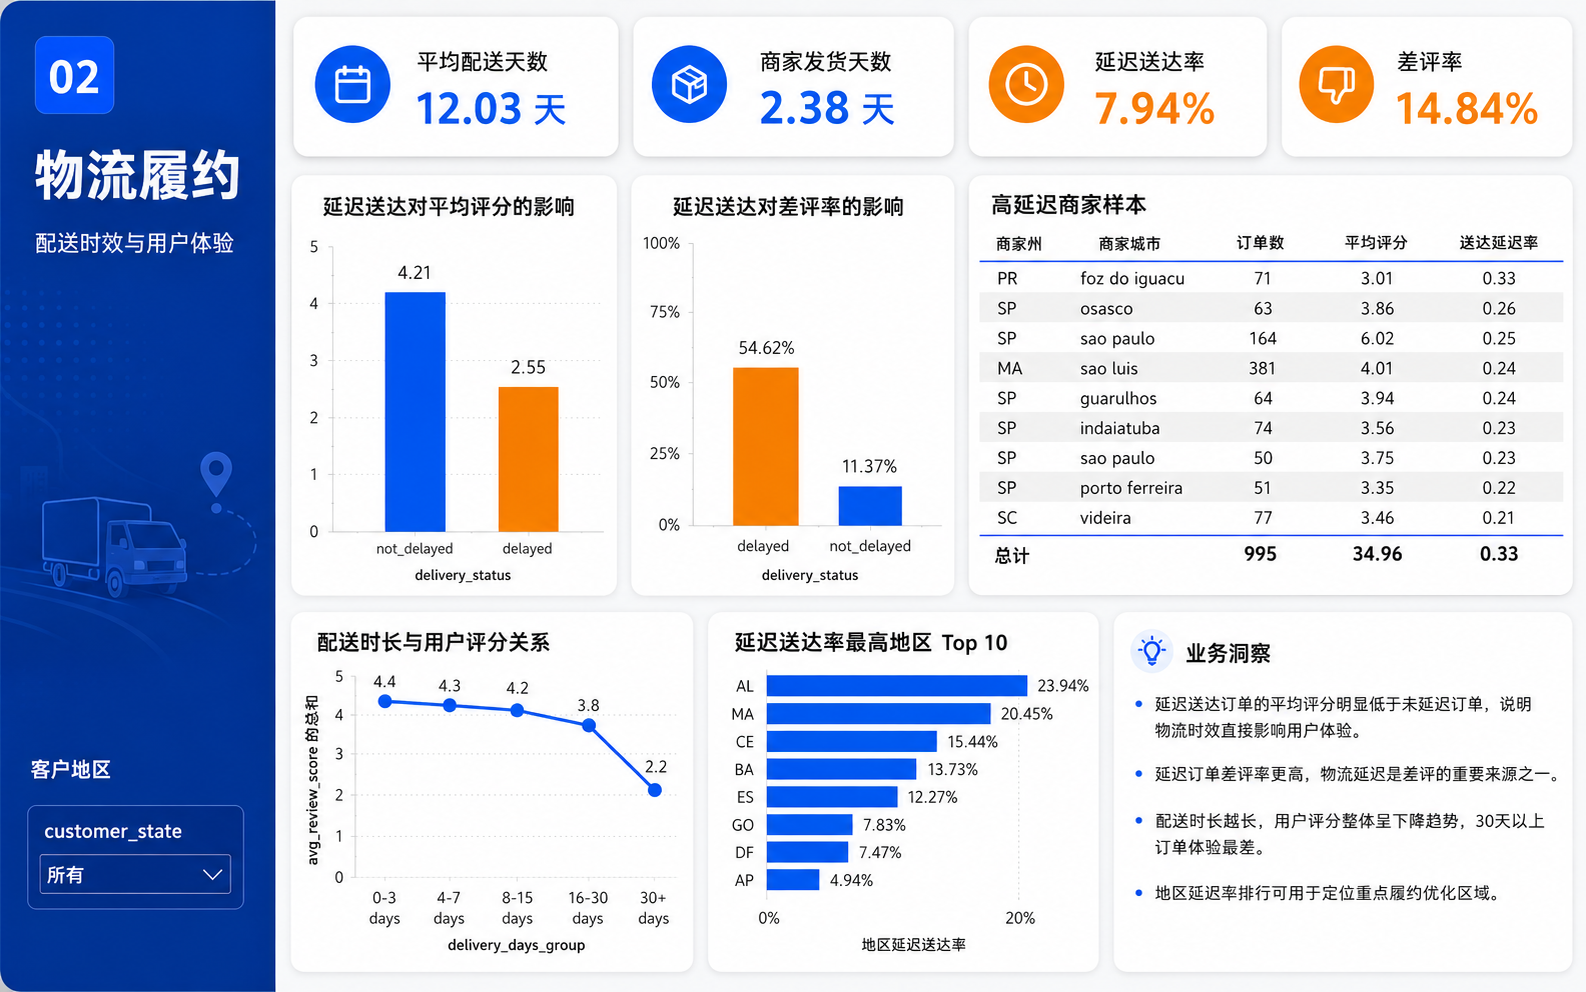

This screenshot's page, from the dashboard's own definition file:
{"tool":"powerbi","page":{"name":"物流履约","canvas":[1280,720],"ordinal":1},"visuals":[{"type":"shape","box":[0,0,210.3,720.2],"z":0},{"type":"textbox","box":[18,18,58,58.9],"z":1000},{"type":"textbox","box":[18.3,91.7,167.5,80.7],"z":2000},{"type":"textbox","box":[19.6,160.2,181,34.2],"z":3000},{"type":"slicer","fields":{"Values":["olist_ecommerce ads_logistics_by_customer_state.customer_state"]},"box":[18,600,165,70],"z":4000},{"type":"textbox","box":[18.3,560.1,160.2,30.6],"z":5000},{"type":"cardVisual","title":"平均配送天数","fields":{"Data":["ads_logistics_overview.平均配送天数显示"]},"box":[238.8,12.3,191,120.2],"z":6000},{"type":"cardVisual","title":"延迟送达率","fields":{"Data":["ads_logistics_overview.延迟送达率显示"]},"box":[716.4,12.3,191,120.2],"z":7000},{"type":"cardVisual","title":"商家发货天数","fields":{"Data":["ads_logistics_overview.商家发货天数显示"]},"box":[482.2,12.3,191,120.2],"z":8000},{"type":"clusteredColumnChart","title":"延迟送达对平均评分的影响","fields":{"Category":["ads_delay_review_impact.delivery_status"],"Y":["Sum(ads_delay_review_impact.avg_review_score)"]},"box":[238.8,132.5,297.4,261.9],"z":9000},{"type":"clusteredColumnChart","title":"延迟送达对平均评分的影响","fields":{"Category":["ads_delay_review_impact.delivery_status"],"Y":["ads_delay_review_impact.差评率"]},"box":[482.2,132.5,240.3,261.9],"z":10000},{"type":"lineChart","title":"配送时长与用户评分关系","fields":{"Category":["ads_delivery_days_review_analysis.delivery_days_group"],"Y":["Sum(ads_delivery_days_review_analysis.avg_review_score)"]},"box":[238.8,457.6,339,261.9],"z":11000},{"type":"clusteredBarChart","title":"延迟送达率最高地区 Top 10","fields":{"Category":["ads_logistics_by_customer_state.customer_state"],"Y":["ads_logistics_by_customer_state.地区延迟送达率"]},"box":[590.4,464.2,352,251],"z":12000},{"type":"tableEx","fields":{"Values":["ads_seller_logistics_analysis.seller_state","ads_seller_logistics_analysis.seller_city","Sum(ads_seller_logistics_analysis.order_count)","Sum(ads_seller_logistics_analysis.avg_review_score)","ads_seller_logistics_analysis.商家送达延迟率"]},"box":[722.6,132.5,554.6,261.9],"z":13000},{"type":"textbox","box":[955,462,323,251],"z":14000},{"type":"cardVisual","title":"差评率","fields":{"Data":["ads_seller_logistics_analysis.整体差评率显示"]},"box":[955.2,12.3,191,120.2],"z":15000}]}

Visuals, with their boxes on the page's 1280x720 design canvas (x1, y1, x2, y2). These are canvas units, not pixel positions in the 1586x992 screenshot, which may show the page scaled, cropped or inside an application window:
shape: (0, 0, 210, 720)
textbox: (18, 18, 76, 77)
textbox: (18, 92, 186, 172)
textbox: (20, 160, 201, 194)
slicer - olist_ecommerce ads_logistics_by_customer_state.customer_state: (18, 600, 183, 670)
textbox: (18, 560, 178, 591)
"平均配送天数" cardVisual: (239, 12, 430, 132)
"延迟送达率" cardVisual: (716, 12, 907, 132)
"商家发货天数" cardVisual: (482, 12, 673, 132)
"延迟送达对平均评分的影响" clusteredColumnChart: (239, 132, 536, 394)
"延迟送达对平均评分的影响" clusteredColumnChart: (482, 132, 722, 394)
"配送时长与用户评分关系" lineChart: (239, 458, 578, 720)
"延迟送达率最高地区 Top 10" clusteredBarChart: (590, 464, 942, 715)
tableEx - ads_seller_logistics_analysis.seller_state x ads_seller_logistics_analysis.seller_city: (723, 132, 1277, 394)
textbox: (955, 462, 1278, 713)
"差评率" cardVisual: (955, 12, 1146, 132)
